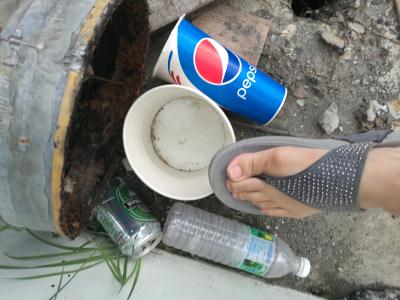bottle: (148, 10, 291, 129), (117, 82, 237, 206), (158, 200, 312, 284), (85, 172, 165, 262)
